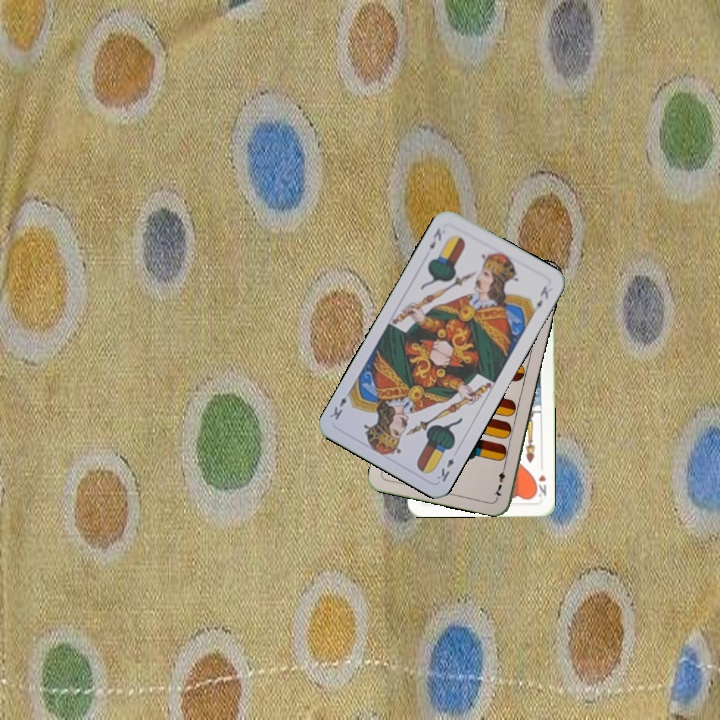E7: (491, 460, 508, 500)
EK: (433, 454, 456, 484), (425, 224, 444, 252)
HK: (531, 470, 549, 500)
